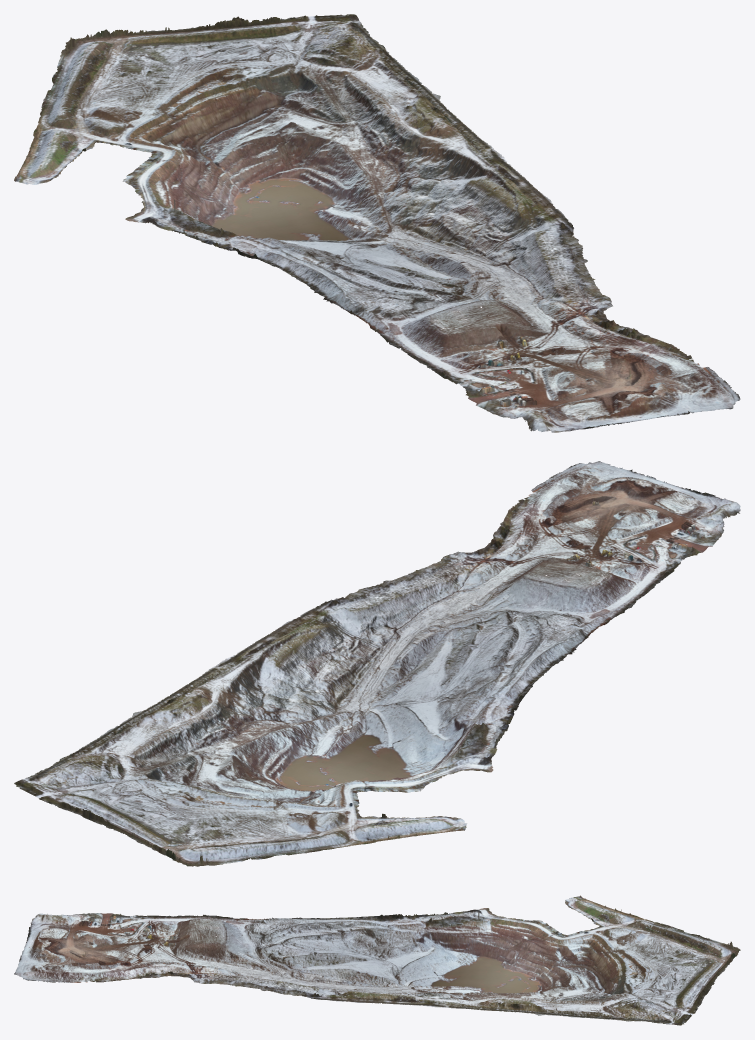
The model's file is quarry.glb.
The picture shows the model from 3 angles, top to bottom: view 1: azimuth 30°, elevation 25°; view 2: azimuth 150°, elevation 25°; view 3: azimuth 270°, elevation 25°; orthographic projection. The views are drawn at different scales.
Visible parts, largest first — view 1: Object_2, Object_3, Object_4, Object_5; view 2: Object_2, Object_3, Object_4, Object_5; view 3: Object_2, Object_3, Object_4, Object_5.
Part boxes in pixels (bbox=[...]): Object_2: bbox=[61, 30, 735, 429]; Object_3: bbox=[31, 14, 739, 431]; Object_4: bbox=[14, 14, 735, 432]; Object_5: bbox=[15, 15, 740, 430]; Object_2: bbox=[63, 466, 730, 861]; Object_3: bbox=[18, 461, 740, 866]; Object_4: bbox=[14, 461, 740, 865]; Object_5: bbox=[18, 462, 739, 865]; Object_2: bbox=[17, 908, 725, 1016]; Object_3: bbox=[14, 903, 740, 1023]; Object_4: bbox=[17, 895, 738, 1025]; Object_5: bbox=[17, 896, 737, 1024].
Bounding box in the file's own units: 296 × 43.24 × 682.
Materials: 1 (1 with a texture image).
